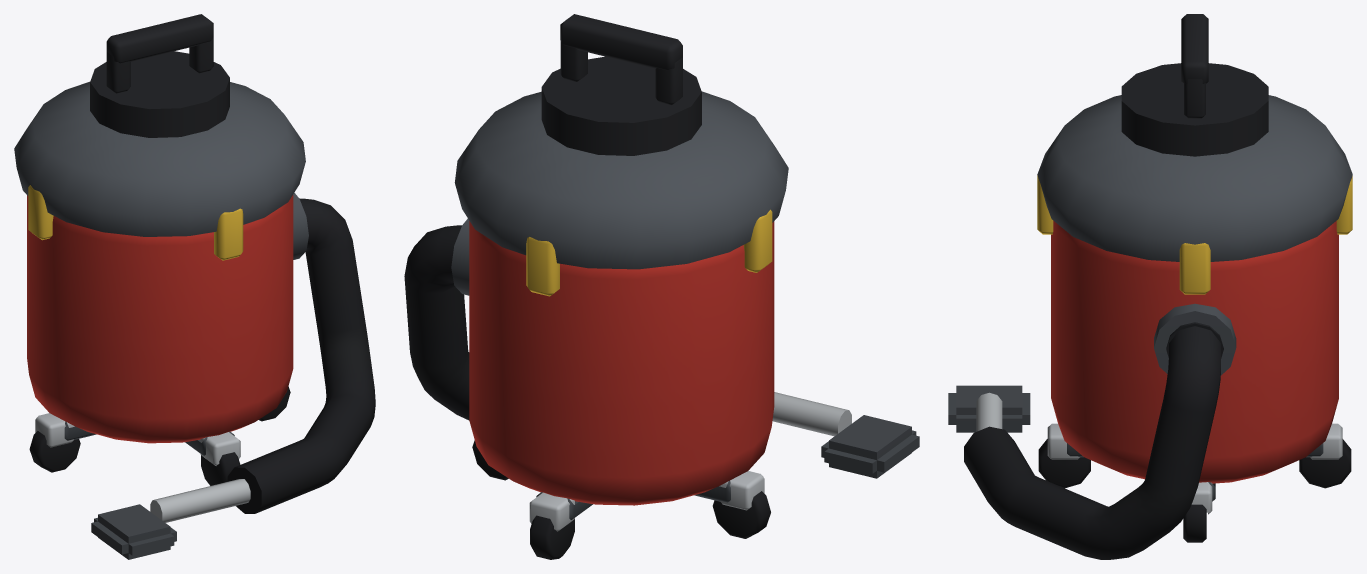
File: SM_ShopVac_Drum_01.glb
The picture shows the model from 3 angles, left to right: view 1: azimuth 30°, elevation 25°; view 2: azimuth 150°, elevation 25°; view 3: azimuth 270°, elevation 25°; orthographic projection. The views are drawn at different scales.
Parts seen in each view (by area): view 1: SM_ShopVac_Drum_01; view 2: SM_ShopVac_Drum_01; view 3: SM_ShopVac_Drum_01.
Boxes of the visible parts, bbox=[...] form: SM_ShopVac_Drum_01: bbox=[14, 14, 375, 559]; SM_ShopVac_Drum_01: bbox=[404, 14, 919, 559]; SM_ShopVac_Drum_01: bbox=[948, 14, 1352, 559].
Size of the model in its own units: 0.618 by 0.72 by 0.59.
Materials: 1 (1 with a texture image).
